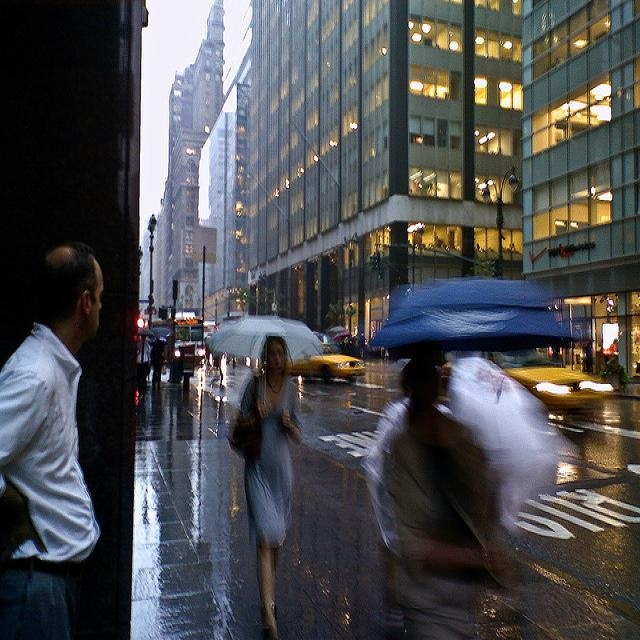Vehicle: (399, 349, 620, 416), (288, 340, 369, 384), (174, 318, 206, 368), (328, 325, 352, 342)
